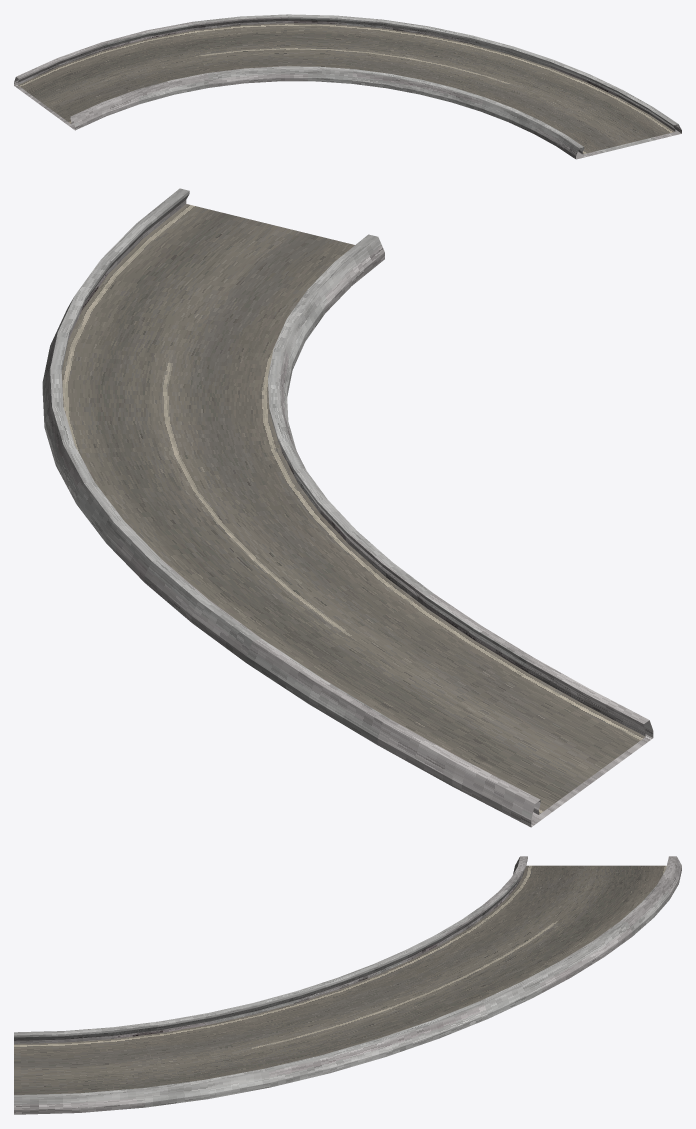
The model's file is road-Turn-Flat-BiSlopeDown-Down1-Left-Size4.glb.
The picture shows the model from 3 angles, top to bottom: view 1: azimuth 30°, elevation 25°; view 2: azimuth 150°, elevation 25°; view 3: azimuth 270°, elevation 25°; orthographic projection. The views are drawn at different scales.
Visible parts, largest first — view 1: road-Turn-Flat-BiSlopeDown-Down1-Left-Size4; view 2: road-Turn-Flat-BiSlopeDown-Down1-Left-Size4; view 3: road-Turn-Flat-BiSlopeDown-Down1-Left-Size4.
Boxes of the visible parts, x1,y1,x2,y2 form: road-Turn-Flat-BiSlopeDown-Down1-Left-Size4: (14, 14, 681, 159); road-Turn-Flat-BiSlopeDown-Down1-Left-Size4: (42, 188, 653, 827); road-Turn-Flat-BiSlopeDown-Down1-Left-Size4: (14, 856, 681, 1114).
Size of the model in its own units: 4 by 0.4242 by 4.
Materials: 2 (2 with a texture image).
